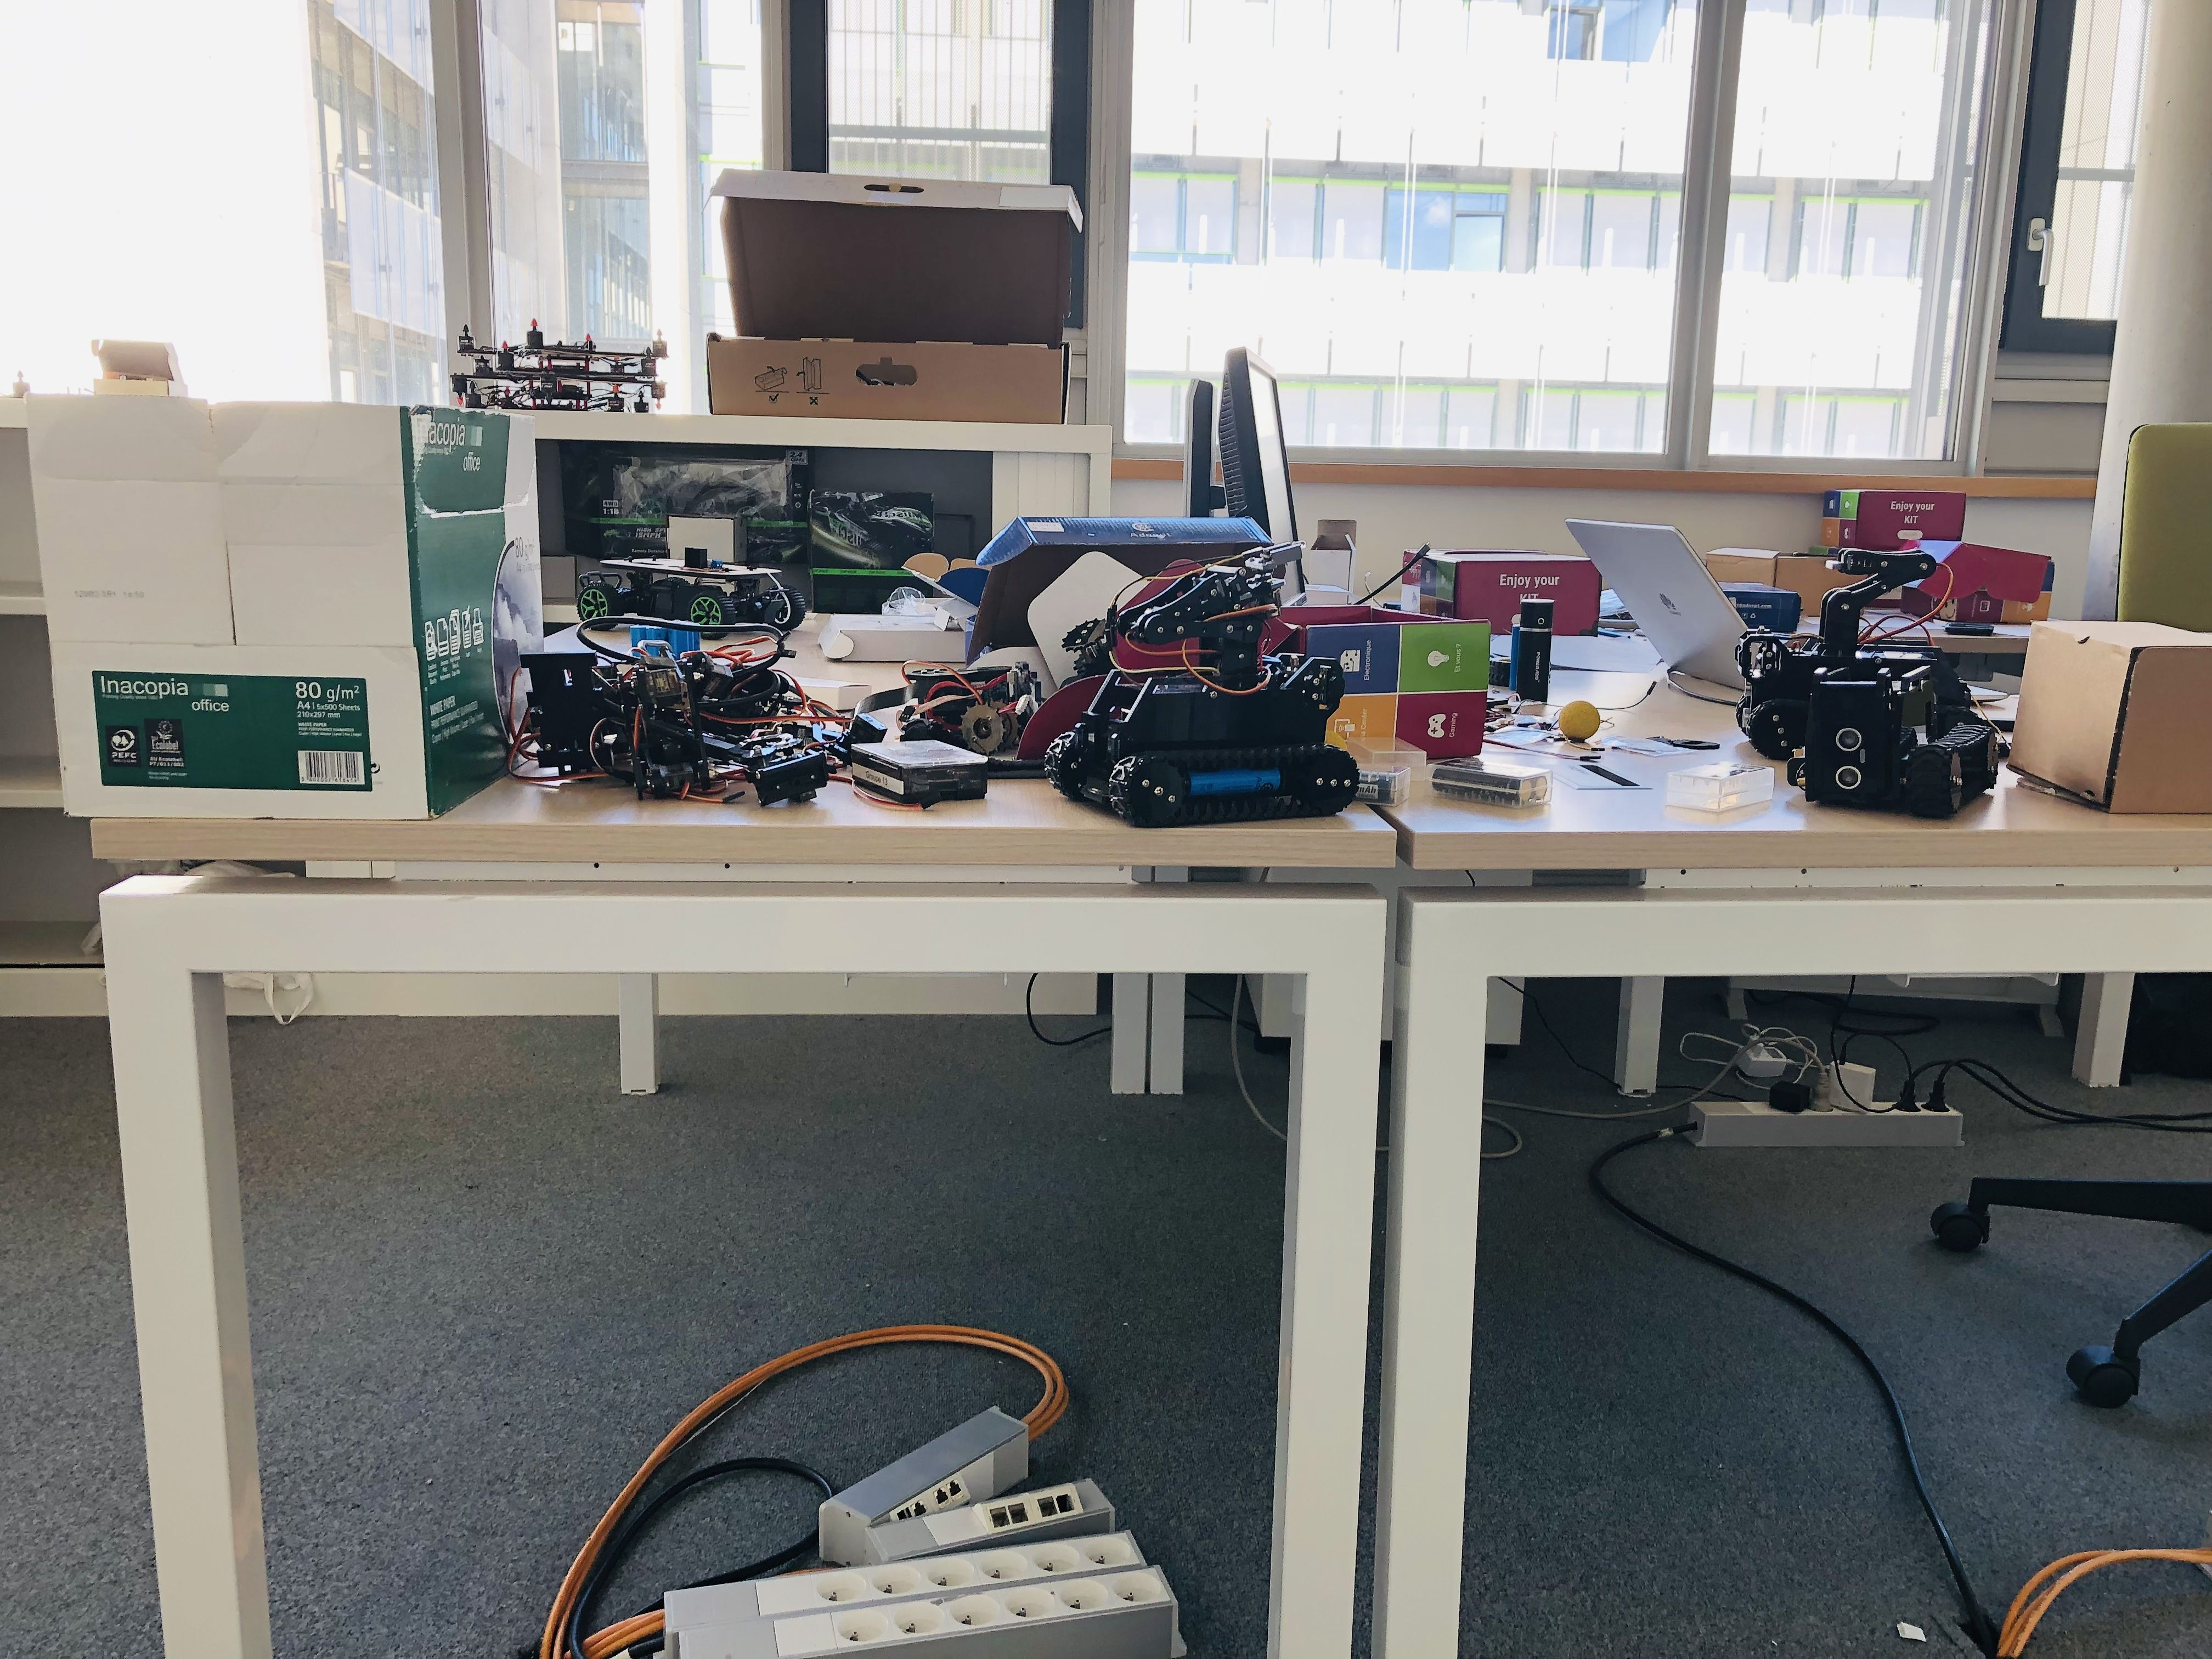rasptank: (1043, 538, 1371, 828)
